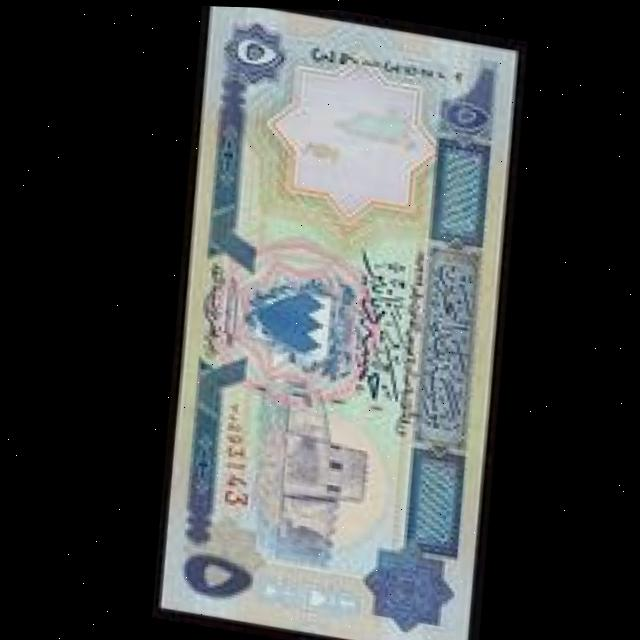banknote: (117, 3, 558, 640)
